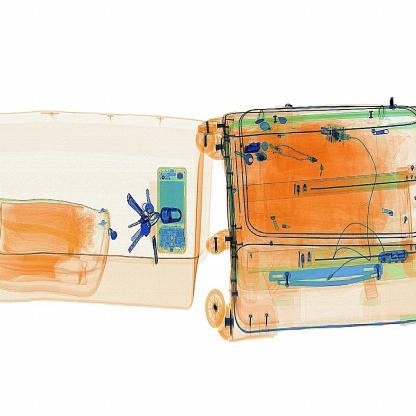knife: (234, 130, 268, 162)
